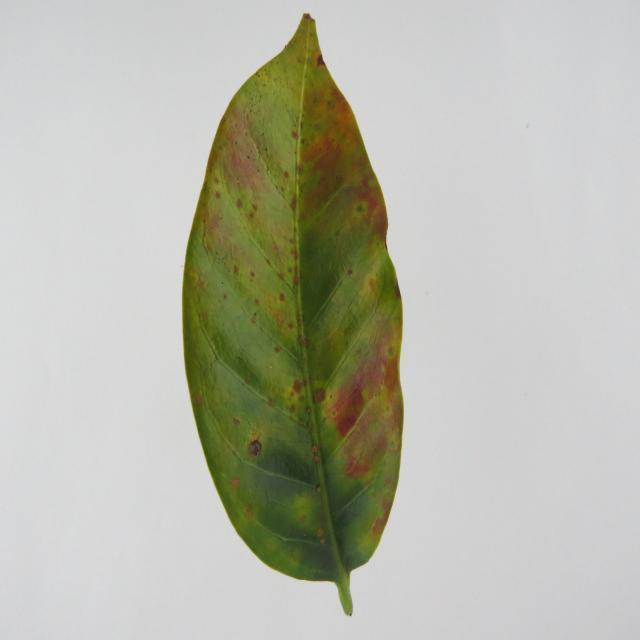DeficienciaNutricional-Fosforo: (182, 13, 404, 615)
